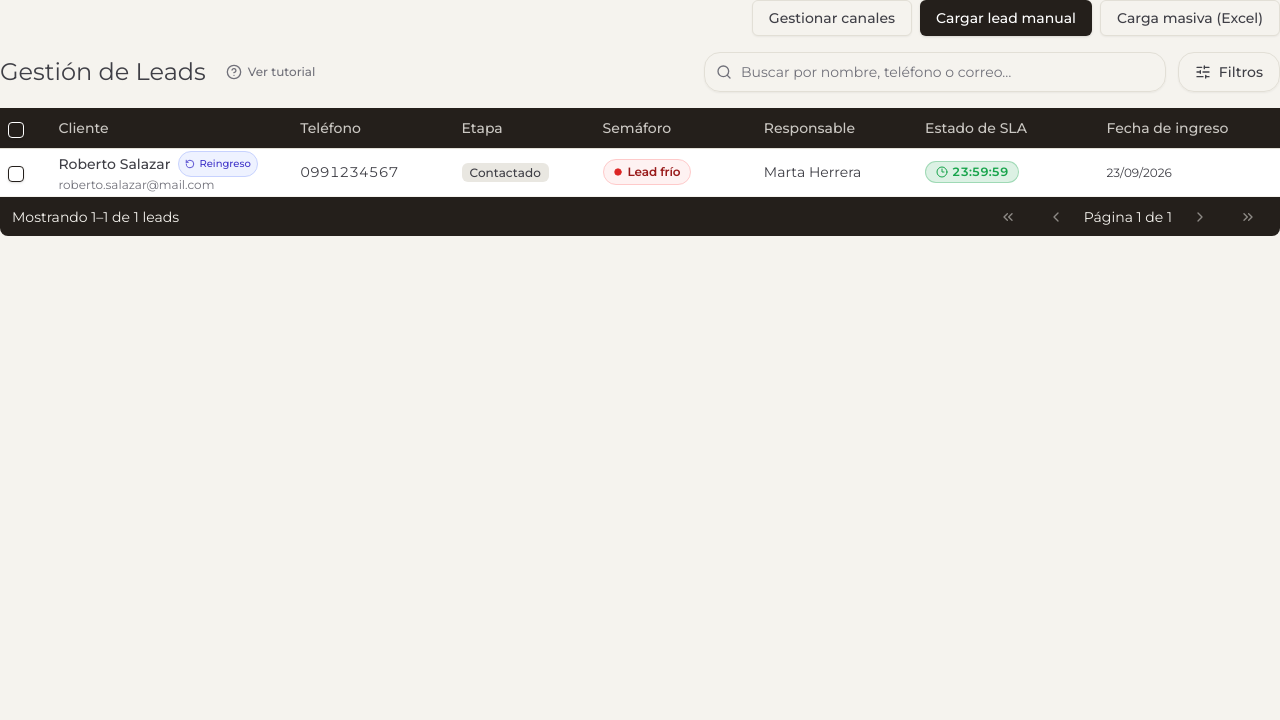
Test case: LeadsPage — canal de ingreso manual (botones por rol/scope) › «Cargar lead manual» abre el diálogo de alta manual
Expected: the link "Roberto Salazar" is shown, [58,154,170,174]
Click the button "Cargar lead manual" at (1006, 18), box [920,0,1092,36]
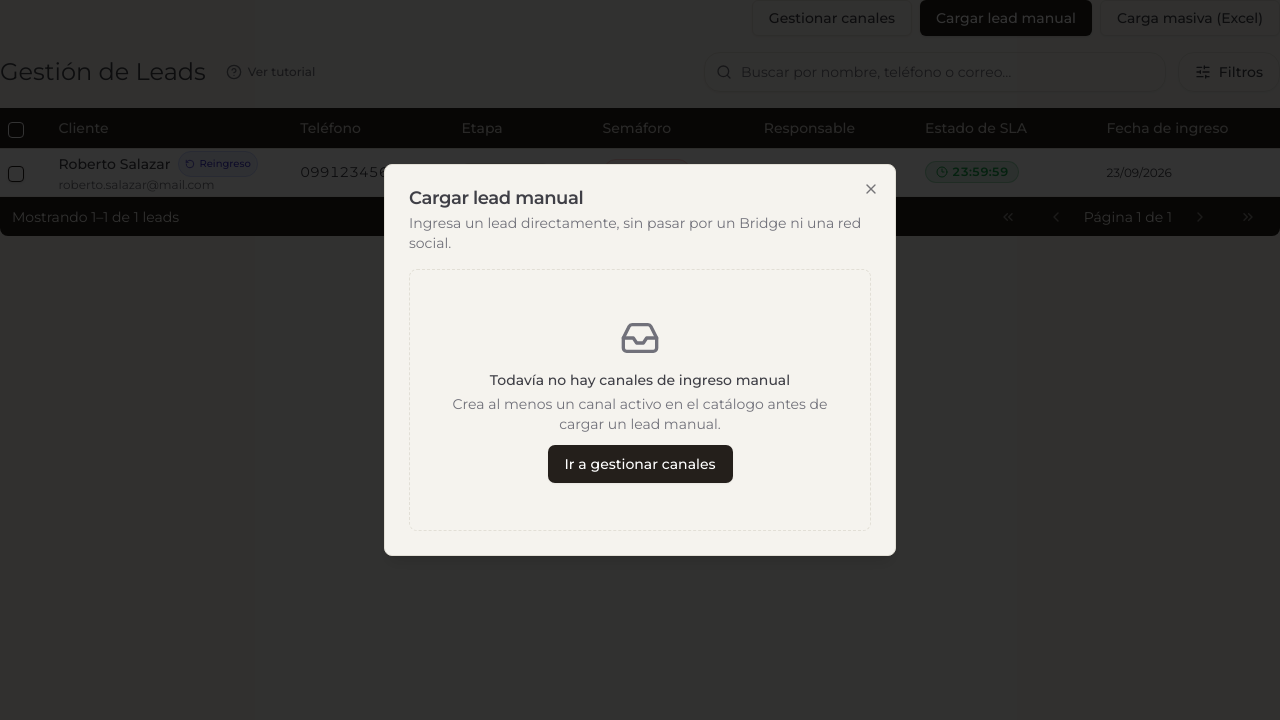
Expected: the dialog "Cargar lead manual" is shown, [384,164,896,556]
